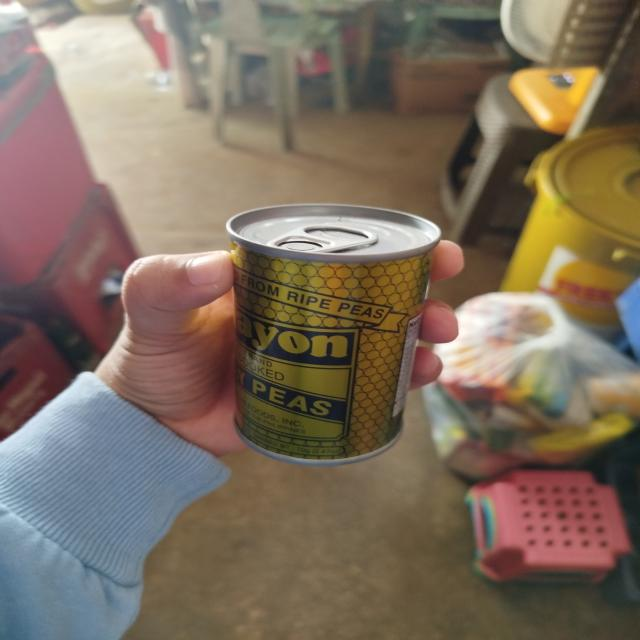metal: (205, 194, 460, 485)
